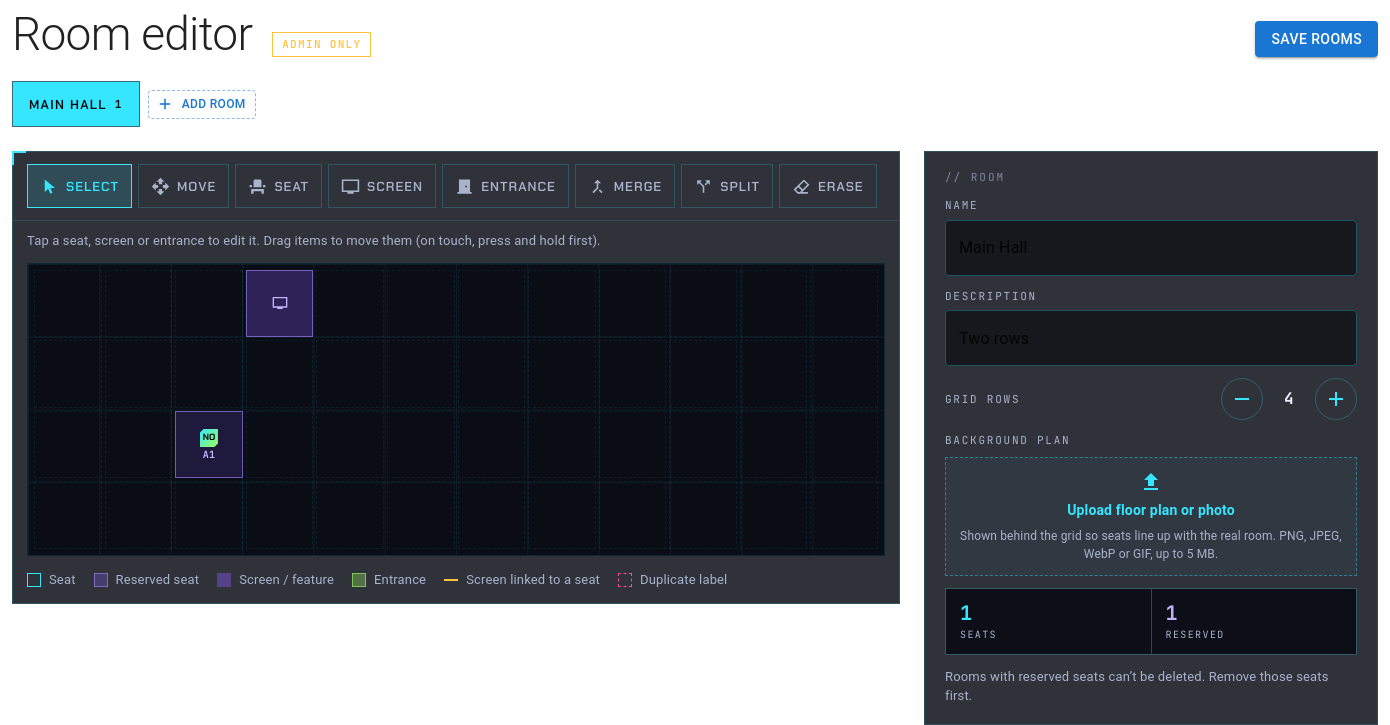
RoomEditor › pointer drag › a plain click still selects (no drag)
Click the cell named "Seat A1" at (209, 444), box [175,411,243,478]
(page scrolled)
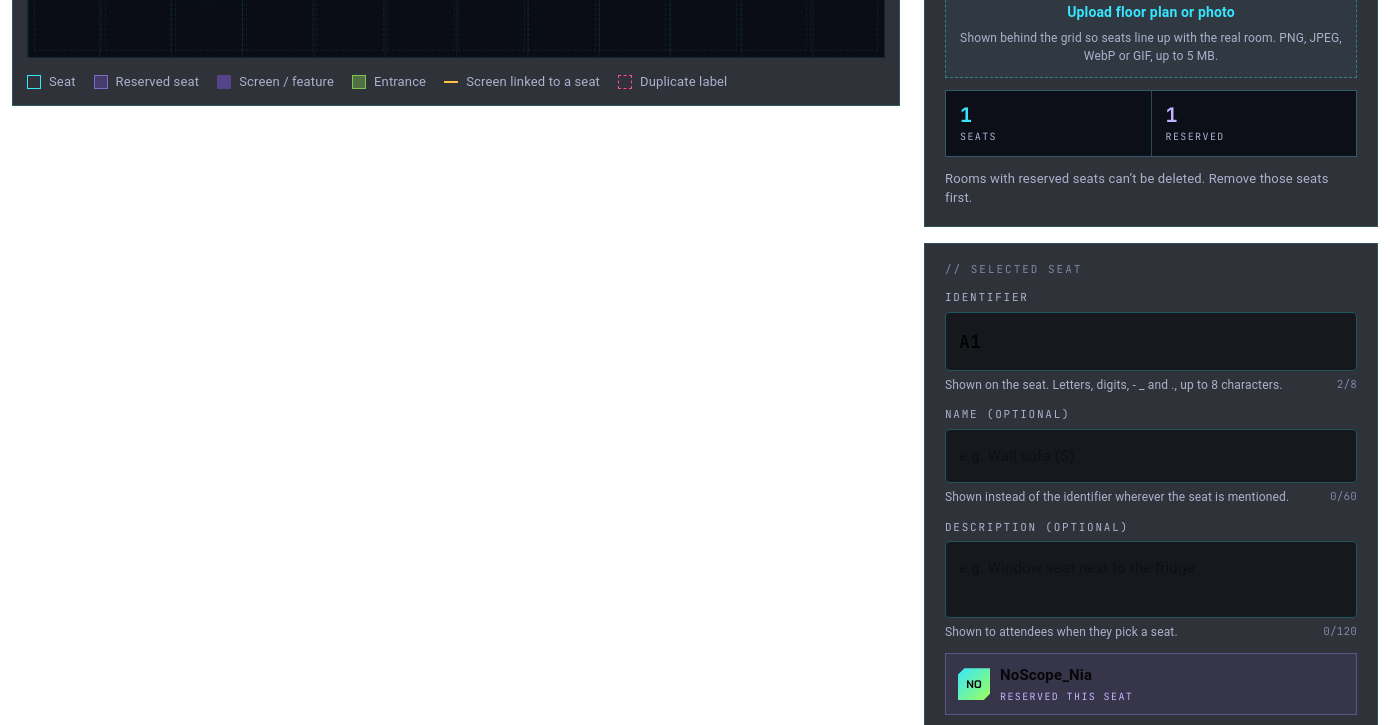
expect the field labelled "Identifier" holds "A1": met, box [945,312,1357,371]
